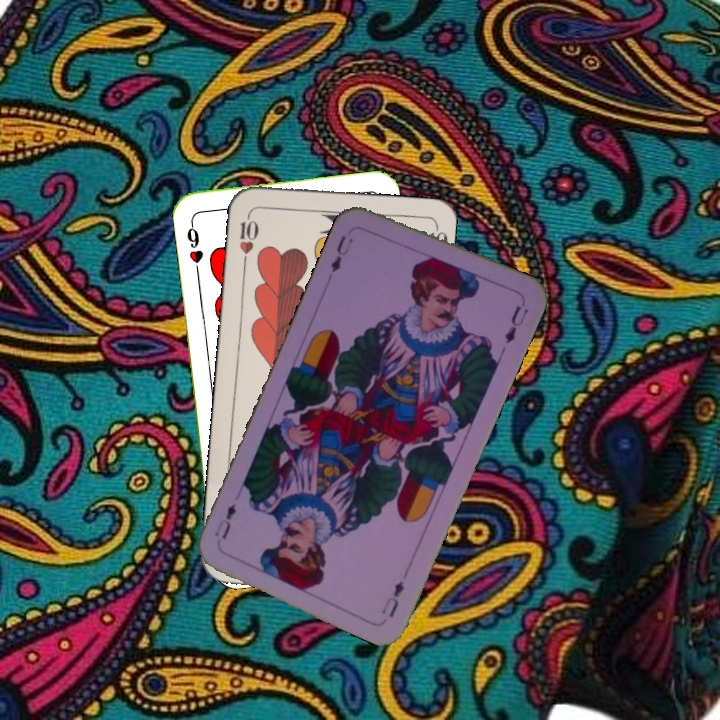EU: (377, 576, 408, 620), (327, 231, 356, 275)
H10: (235, 208, 261, 267)
H9: (182, 216, 206, 275)
